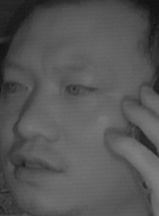eye: (64, 77, 97, 99), (2, 77, 33, 98)
mouth: (11, 145, 69, 187)
